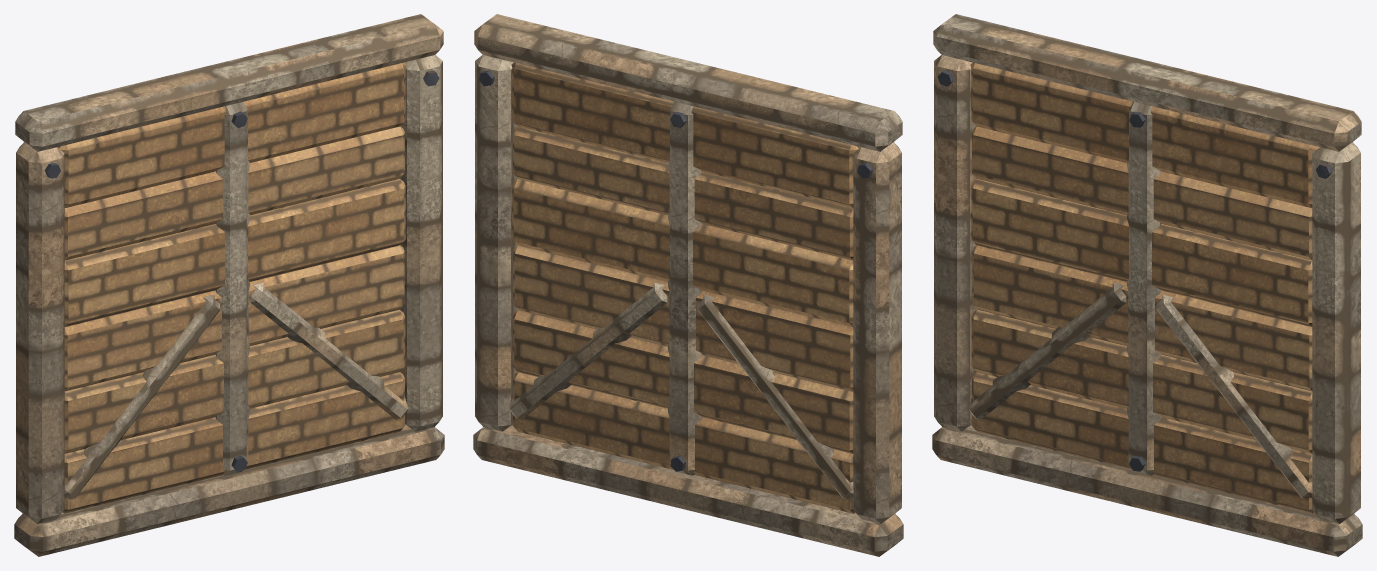
Rendered from duvar.glb.
The picture shows the model from 3 angles, left to right: view 1: azimuth 30°, elevation 25°; view 2: azimuth 150°, elevation 25°; view 3: azimuth 330°, elevation 25°; orthographic projection.
Visible parts, largest first — view 1: duvar; view 2: duvar; view 3: duvar.
Boxes of the visible parts, x1=… form: duvar: x1=14, y1=14, x2=444, y2=556; duvar: x1=473, y1=14, x2=903, y2=556; duvar: x1=932, y1=14, x2=1362, y2=556.
Bounding box in the file's own units: 3 × 3.01 × 0.35.
1 material, 1 textured.
